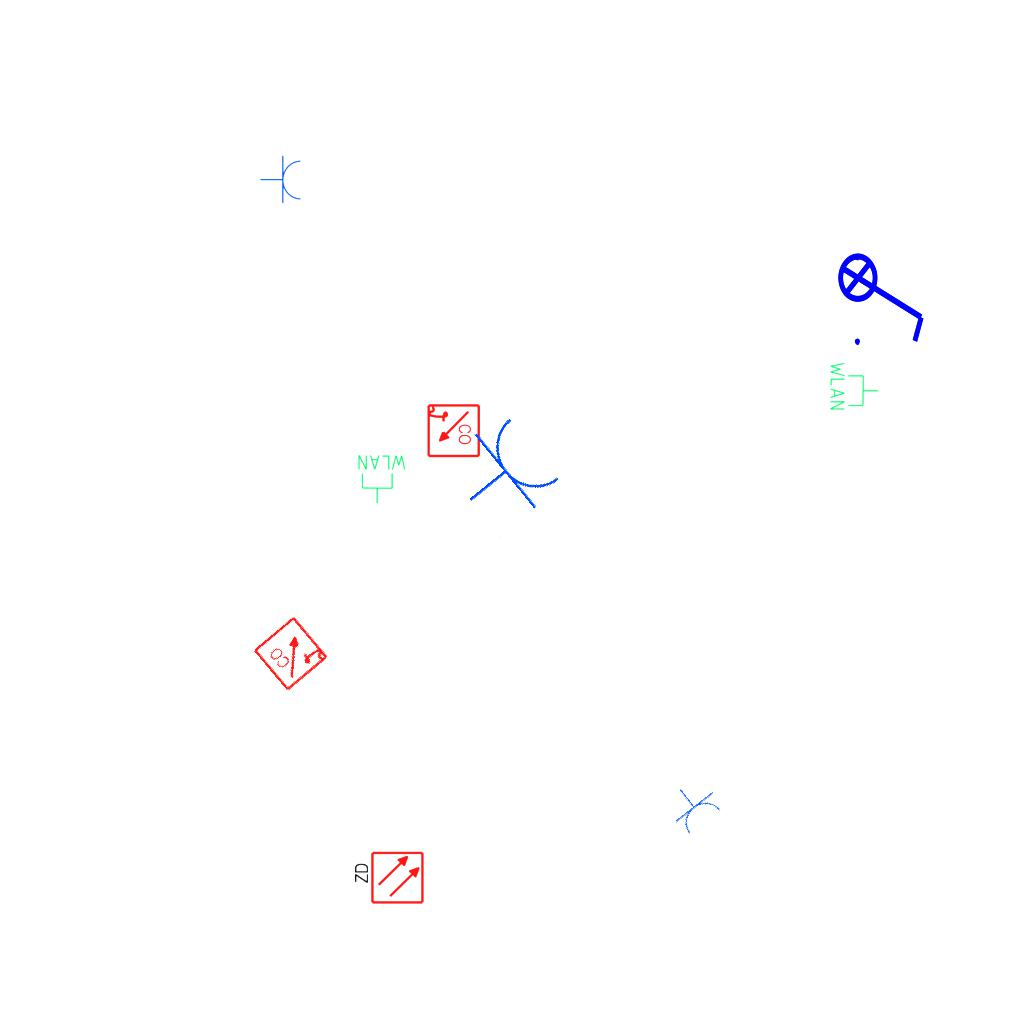Ausschalter_beleuchtet: (836, 239, 932, 351)
ROA_Rauchmelder_optisch_mit_Signalgeber_(Sockelsirene): (251, 613, 331, 693), (425, 403, 481, 459)
Schukosteckdose_einfach: (438, 407, 570, 540), (660, 774, 726, 839), (260, 155, 303, 205)
WLAN: (828, 360, 880, 412), (356, 453, 408, 505)
ZD_Melder_in_Zwischendecke_mit_Revisionsoeffnung_mind_40_x_40_cm: (351, 850, 425, 907)
